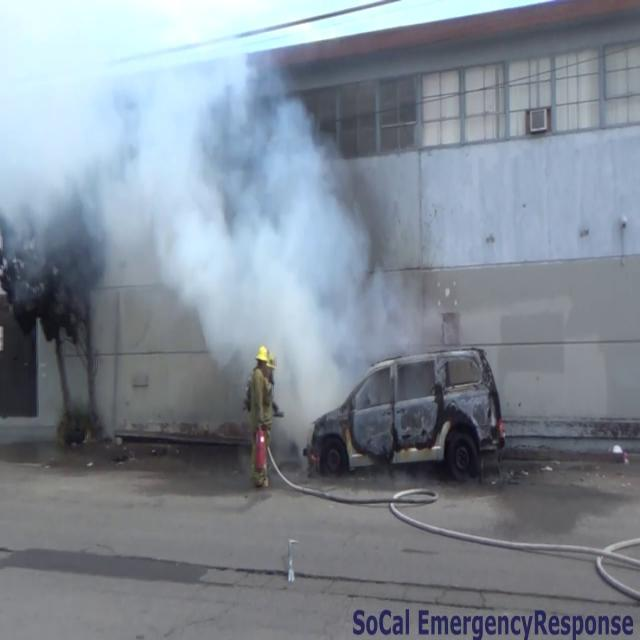Smoke: (3, 25, 464, 423)
